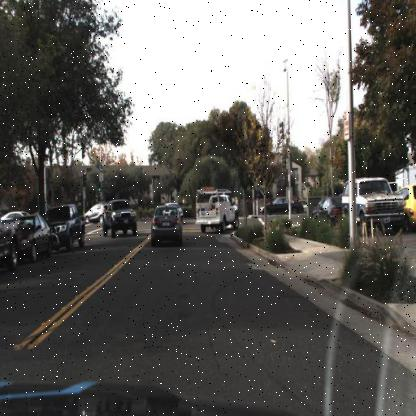car: (344, 174, 404, 240), (192, 186, 242, 233), (44, 200, 85, 253), (148, 201, 184, 251), (99, 195, 138, 241), (23, 210, 51, 266), (0, 203, 22, 274), (309, 192, 346, 226), (260, 190, 304, 216), (84, 195, 110, 228)
trafficLight-Green: (95, 178, 103, 196)
